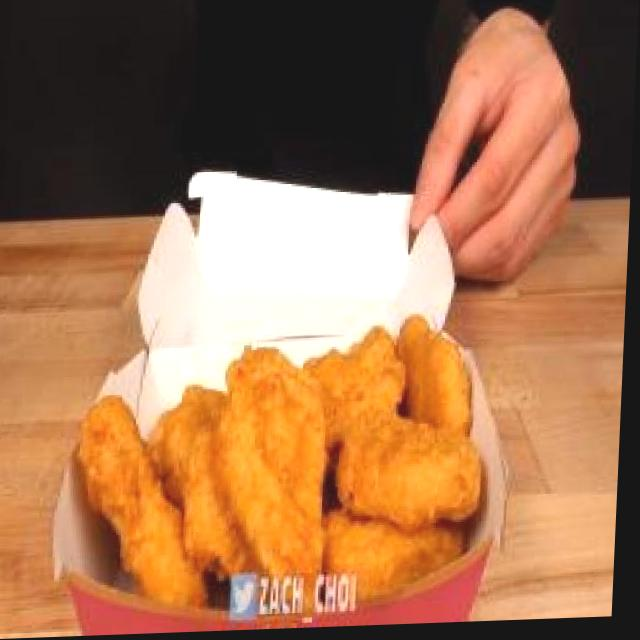nugget: (66, 265, 511, 627)
